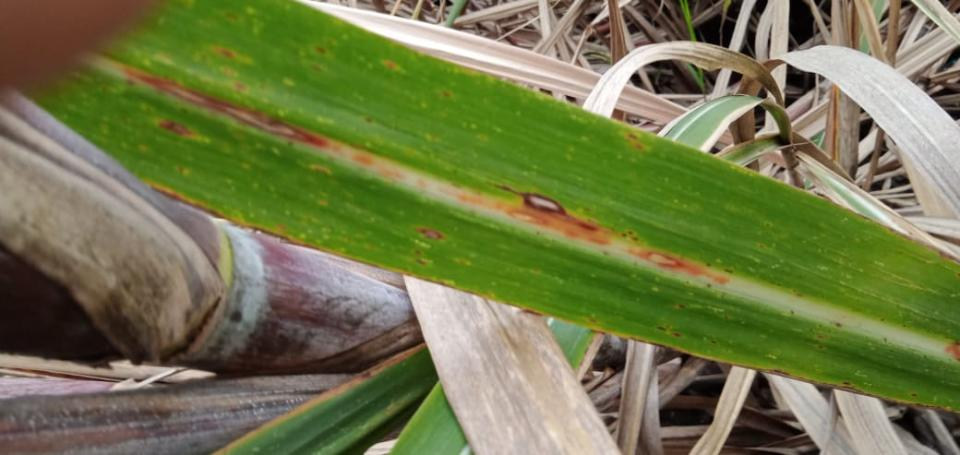RedRot: (124, 71, 330, 149), (455, 181, 613, 246), (626, 249, 731, 285), (376, 167, 404, 179), (350, 155, 375, 166), (945, 342, 959, 361), (437, 187, 454, 197), (332, 145, 344, 155), (416, 179, 426, 188)
Rust: (157, 118, 200, 137), (413, 227, 445, 240), (218, 46, 237, 60), (382, 59, 399, 71), (313, 164, 330, 174), (224, 11, 239, 22), (309, 63, 324, 73), (223, 67, 235, 77), (314, 46, 327, 55), (414, 258, 428, 266), (627, 132, 639, 141), (458, 258, 470, 266), (656, 325, 667, 332), (723, 268, 734, 275), (671, 332, 683, 338), (235, 84, 247, 90), (126, 79, 136, 86), (363, 117, 374, 123), (635, 143, 643, 150), (178, 166, 186, 173), (287, 140, 294, 148), (181, 108, 188, 115), (678, 303, 686, 309), (443, 91, 451, 97), (278, 226, 286, 232), (835, 322, 842, 328), (665, 324, 673, 329), (414, 250, 421, 255), (627, 230, 634, 235), (590, 318, 597, 323), (320, 200, 327, 205), (631, 237, 639, 241), (705, 262, 713, 266), (706, 283, 711, 289), (369, 244, 375, 249), (843, 381, 850, 385), (790, 310, 795, 315), (712, 340, 718, 344), (621, 233, 627, 237), (818, 335, 824, 339), (911, 393, 916, 397), (819, 345, 823, 350), (809, 328, 814, 332), (880, 317, 884, 322), (889, 349, 894, 353), (760, 244, 764, 249), (766, 223, 770, 228), (883, 337, 886, 343), (923, 355, 927, 359), (902, 324, 906, 328), (819, 325, 822, 328), (828, 330, 831, 333)
